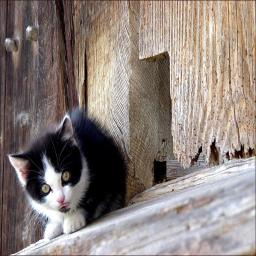catnose: (54, 194, 67, 206)
